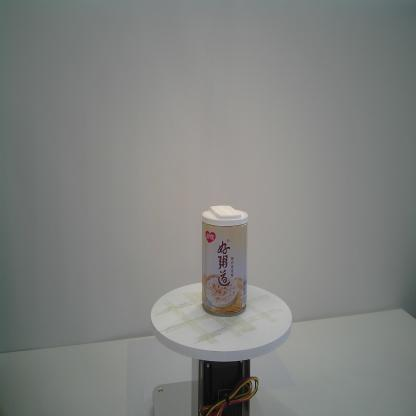Canned Food: (201, 205, 249, 317)
